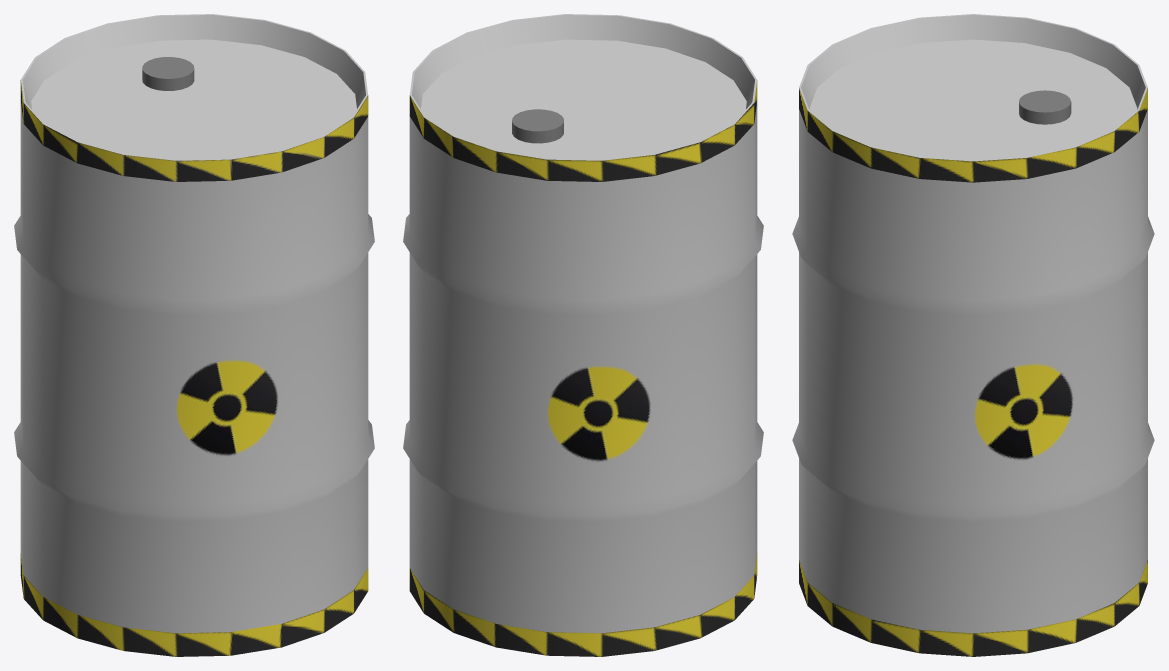
Rendered from barrel.fbx.
3 renders of one model, left to right at view 1: azimuth 30°, elevation 25°; view 2: azimuth 150°, elevation 25°; view 3: azimuth 270°, elevation 25°, orthographic.
Visible parts, largest first — view 1: pCylinder3; view 2: pCylinder3; view 3: pCylinder3.
Part boxes in pixels (<box>): pCylinder3: <box>14,14,374,656</box>; pCylinder3: <box>403,14,763,656</box>; pCylinder3: <box>792,14,1154,656</box>.
Size of the model in its own units: 4.15 by 6.27 by 4.15.
1 material, 1 textured.
